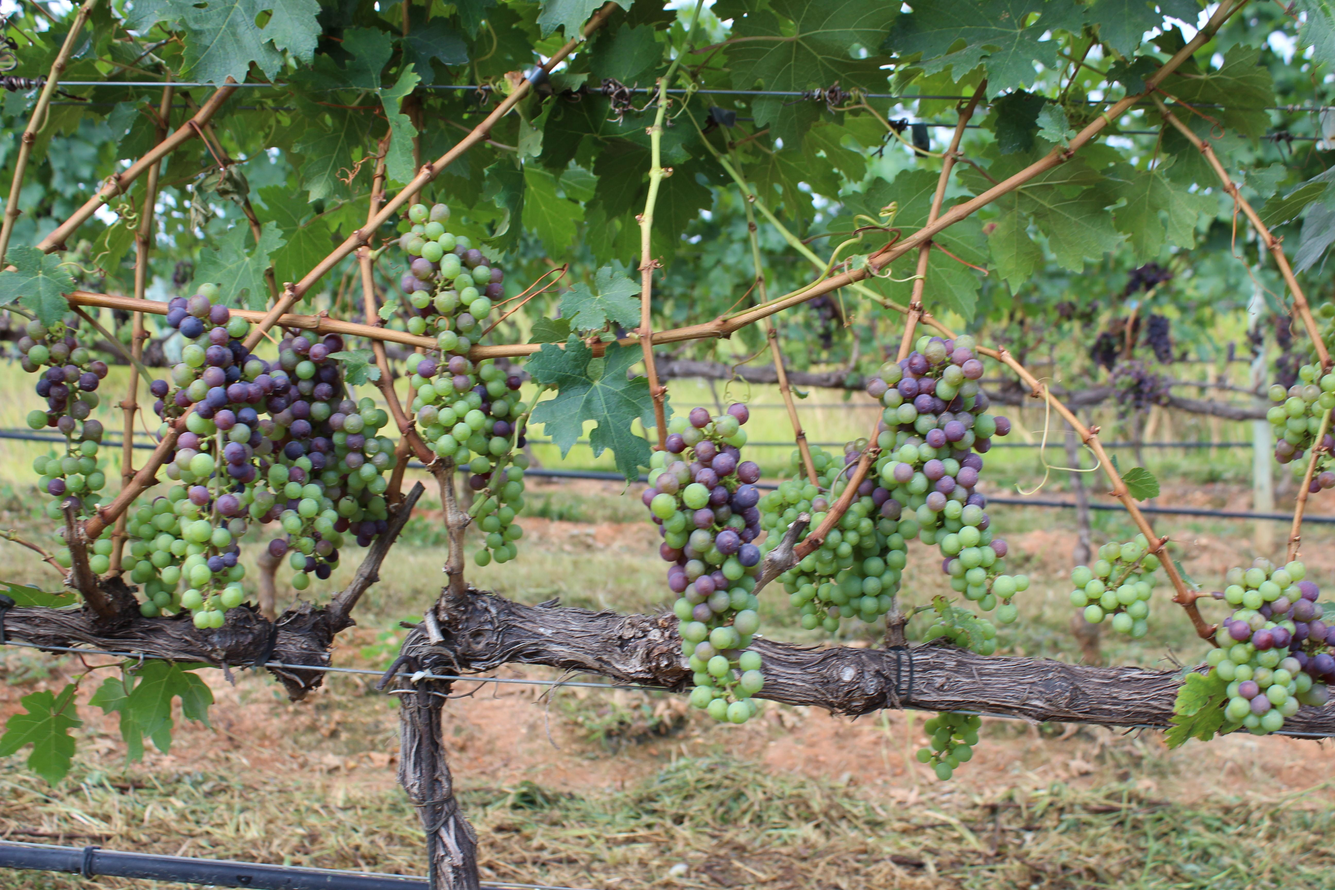leaf: (525, 334, 654, 480), (882, 0, 1058, 97), (168, 0, 320, 83), (90, 660, 213, 761), (1111, 158, 1217, 263), (0, 683, 82, 785), (194, 222, 285, 309), (258, 185, 333, 287), (0, 245, 74, 326), (1165, 672, 1240, 748), (523, 164, 583, 255), (560, 266, 641, 331), (402, 17, 468, 85), (991, 90, 1047, 154), (1290, 0, 1335, 65), (537, 0, 603, 40), (0, 581, 78, 607), (328, 349, 381, 386), (1121, 467, 1160, 500), (528, 317, 571, 343), (618, 0, 632, 9), (831, 4, 838, 9), (884, 4, 890, 9), (315, 283, 318, 287), (512, 219, 513, 224)
